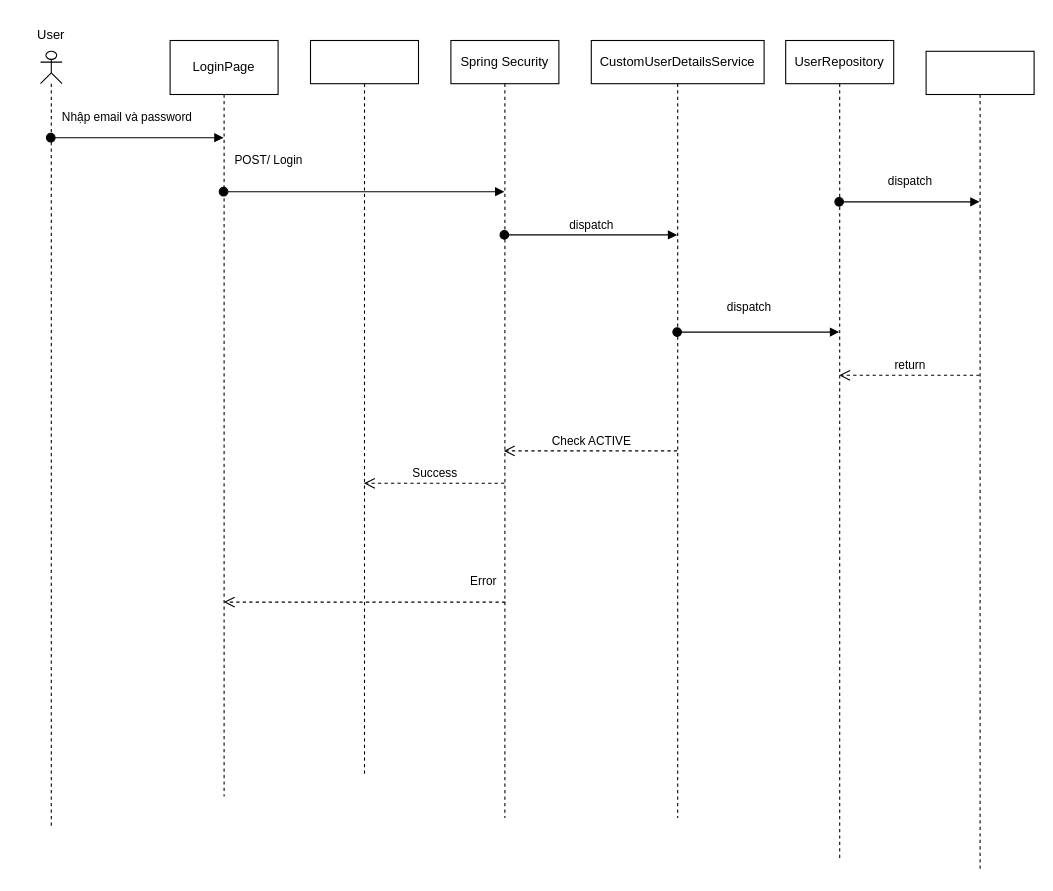
Image size: 1053x891. Some labels were removed from this diagram. Here are the shapes that lost their labels. From the top down, the box of each, then its label:
(309, 39, 418, 775): Home Page
(925, 50, 1034, 872): Database
